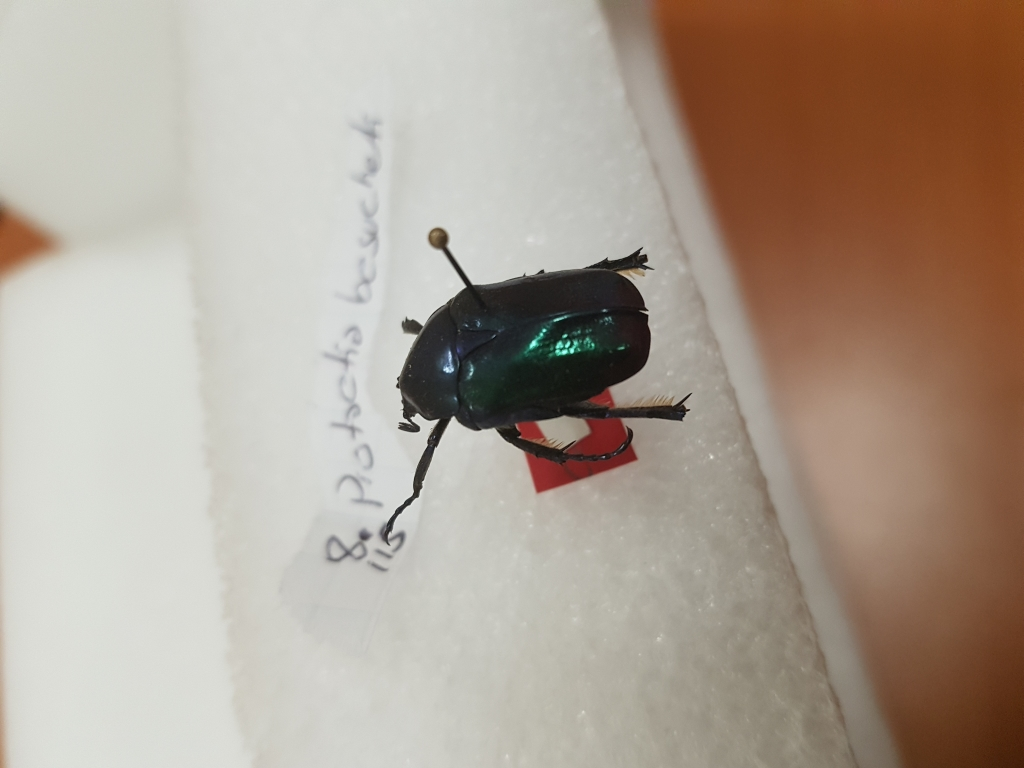Protaetia_besucheti: (372, 245, 701, 548)
